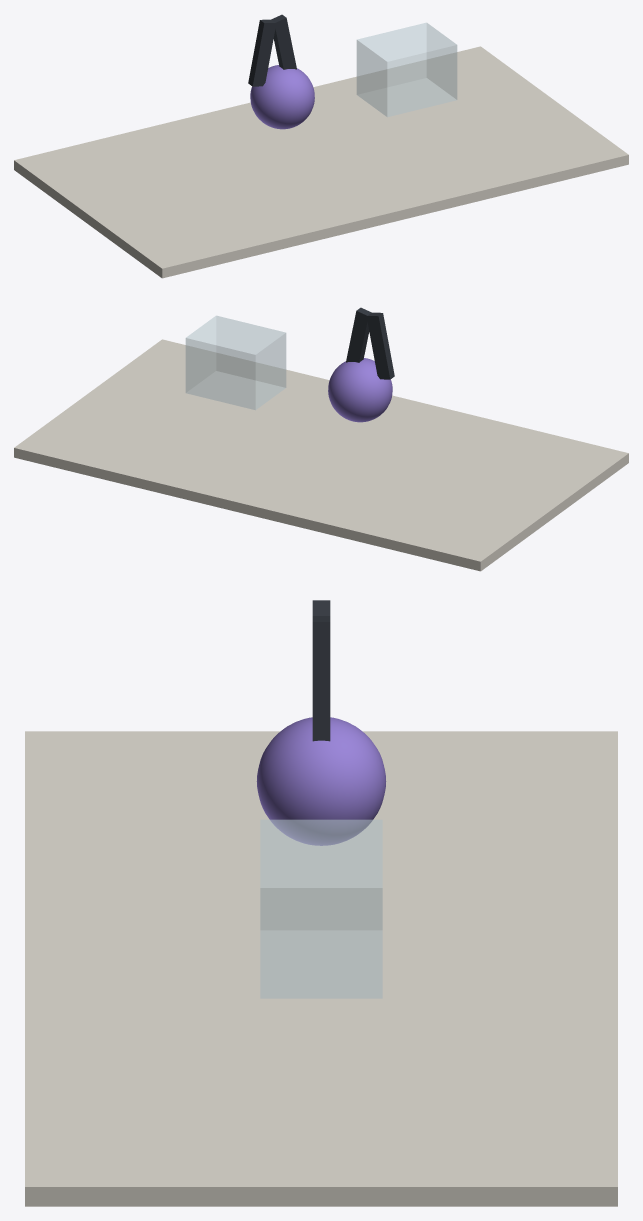
File: math-advanced-variable.glb
3 views of the same model, one above another, from view 1: azimuth 30°, elevation 25°; view 2: azimuth 150°, elevation 25°; view 3: azimuth 270°, elevation 25° (orthographic). The views are drawn at different scales.
Visible parts, largest first — view 1: advanced-math-base, value-mystery-box, unknown-variable-x-token, large-x-symbol-1, large-x-symbol-2; view 2: advanced-math-base, value-mystery-box, unknown-variable-x-token, large-x-symbol-1, large-x-symbol-2; view 3: advanced-math-base, value-mystery-box, unknown-variable-x-token, large-x-symbol-2.
Boxes of the visible parts, x1,y1,x2,y2 form: advanced-math-base: (14, 46, 628, 278); value-mystery-box: (356, 22, 457, 117); unknown-variable-x-token: (250, 65, 314, 129); large-x-symbol-1: (248, 19, 275, 86); large-x-symbol-2: (271, 14, 296, 69); advanced-math-base: (14, 339, 628, 571); value-mystery-box: (185, 315, 286, 410); unknown-variable-x-token: (328, 358, 392, 422); large-x-symbol-1: (367, 312, 394, 379); large-x-symbol-2: (346, 307, 371, 362); advanced-math-base: (25, 731, 617, 1206); value-mystery-box: (260, 819, 382, 998); unknown-variable-x-token: (256, 717, 386, 845); large-x-symbol-2: (312, 616, 330, 741).
Size of what is drawn, in the model's own units: 3 by 0.9842 by 1.65.
